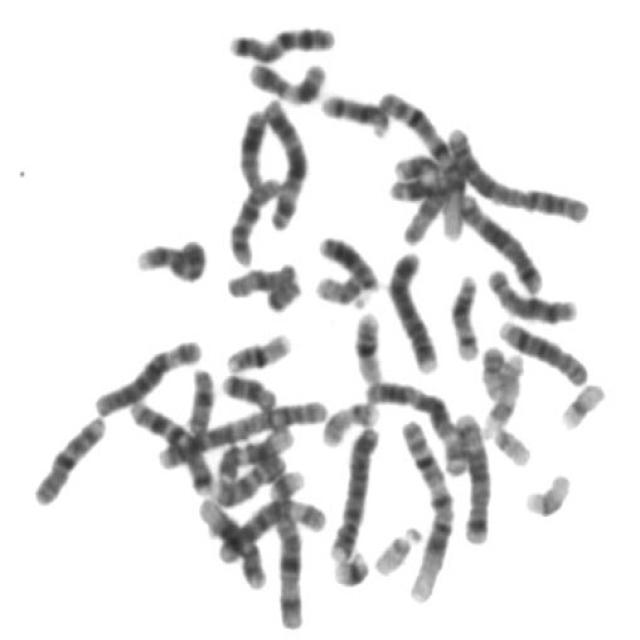A1: (370, 81, 470, 243), (396, 409, 458, 606)
A2: (438, 118, 594, 224), (150, 391, 333, 472)
A3: (360, 371, 472, 477), (257, 89, 314, 231)
B4: (324, 417, 384, 564), (382, 239, 444, 376)
B5: (450, 186, 547, 295), (448, 404, 496, 546)
C10: (26, 405, 111, 509), (223, 166, 287, 268)
C11: (242, 51, 330, 105), (390, 152, 441, 206)
C12: (191, 488, 271, 591), (212, 420, 298, 487)
C6: (88, 328, 207, 419), (212, 488, 331, 565)
C7: (122, 391, 217, 497), (223, 15, 340, 63)
C8: (492, 310, 594, 387), (482, 258, 584, 326)
C9: (206, 446, 290, 507), (130, 230, 210, 284)
D13: (312, 225, 383, 292), (232, 98, 271, 193)
D14: (315, 82, 394, 138), (445, 264, 485, 362)
D15: (387, 166, 466, 242), (219, 254, 305, 306)
E16: (220, 322, 298, 374), (349, 302, 389, 384)
E17: (477, 346, 528, 438), (315, 391, 384, 449)
E18: (216, 364, 284, 414), (183, 363, 219, 432)
F19: (554, 372, 611, 432), (518, 462, 576, 520)
F20: (476, 336, 509, 401), (311, 272, 367, 306)
G21: (326, 542, 374, 590), (264, 461, 308, 500)
G22: (369, 516, 427, 578), (485, 416, 535, 468)
Y: (266, 278, 302, 316)
